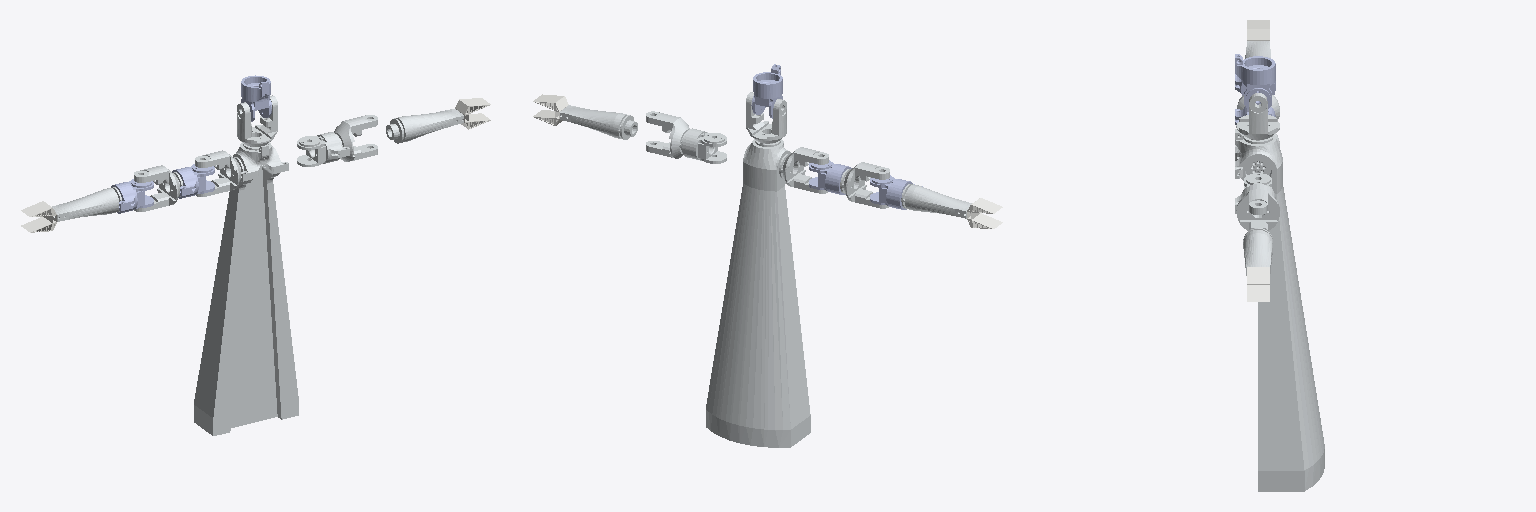
The robot description file, URDF, robot "monkey_co mplete":
<?xml version="1.0" encoding="utf-8"?>
<!-- This URDF was automatically created by SolidWorks to URDF Exporter! Originally created by [author] ([email redacted]) 
     Commit Version: 1.6.0-4-g7f85cfe  Build Version: 1.6.7995.38578
     For more information, please see http://wiki.ros.org/sw_urdf_exporter -->
<robot
  name="monkey_co mplete">
  <link
    name="base_link">
    <inertial>
      <origin
        xyz="6.98705116462124E-09 0.00128521070466461 0.0520295656440773"
        rpy="0 0 0" />
      <mass
        value="0.0883290373372722" />
      <inertia
        ixx="0.000141144717037961"
        ixy="1.04477581076833E-10"
        ixz="-4.83096664544425E-10"
        iyy="0.000149270696736634"
        iyz="1.02449244706016E-05"
        izz="1.58173066485521E-05" />
    </inertial>
    <visual>
      <origin
        xyz="0 0 0"
        rpy="0 0 0" />
      <geometry>
        <mesh
          filename="package://monkey_complete/meshes/base_link.STL" />
      </geometry>
      <material
        name="">
        <color
          rgba="0.898039215686275 0.917647058823529 0.929411764705882 1" />
      </material>
    </visual>
    <collision>
      <origin
        xyz="0 0 0"
        rpy="0 0 0" />
      <geometry>
        <mesh
          filename="package://monkey_complete/meshes/base_link_Collision.STL" />
      </geometry>
    </collision>
  </link>
  <link
    name="Neck_Hor_Rot_Link">
    <inertial>
      <origin
        xyz="0.000669560657733764 7.22824268208945E-06 0.0123704106831974"
        rpy="0 0 0" />
      <mass
        value="0.00224204689024492" />
      <inertia
        ixx="1.20382101087139E-07"
        ixy="9.93082482397873E-12"
        ixz="-6.05039637813109E-09"
        iyy="1.91214842358204E-07"
        iyz="1.18376847836872E-10"
        izz="1.22105776114293E-07" />
    </inertial>
    <visual>
      <origin
        xyz="0 0 0"
        rpy="0 0 0" />
      <geometry>
        <mesh
          filename="package://monkey_complete/meshes/Neck_Hor_Rot_Link.STL" />
      </geometry>
      <material
        name="">
        <color
          rgba="0.898039215686275 0.917647058823529 0.929411764705882 1" />
      </material>
    </visual>
    <collision>
      <origin
        xyz="0 0 0"
        rpy="0 0 0" />
      <geometry>
        <mesh
          filename="package://monkey_complete/meshes/Neck_Hor_Rot_Link_Collision.STL" />
      </geometry>
    </collision>
  </link>
  <joint
    name="Neck_Hor_Rot_Joint"
    type="revolute">
    <origin
      xyz="0 -0.01 0.1538"
      rpy="0 0 0" />
    <parent
      link="base_link" />
    <child
      link="Neck_Hor_Rot_Link" />
    <axis
      xyz="0 0 -1" />
    <limit
      lower="-1.507"
      upper="1.507"
      effort="1"
      velocity="1" />
  </joint>
  <link
    name="Neck_Fro_Rot_Link">
    <inertial>
      <origin
        xyz="0.000242400751746984 -0.0003800741587503 0.00633594131736323"
        rpy="0 0 0" />
      <mass
        value="0.00176240827004742" />
      <inertia
        ixx="7.60273983420826E-08"
        ixy="-1.62368191193238E-10"
        ixz="3.18161828212279E-09"
        iyy="7.41393158959736E-08"
        iyz="4.96038484363031E-09"
        izz="6.14795776087857E-08" />
    </inertial>
    <visual>
      <origin
        xyz="0 0 0"
        rpy="0 0 0" />
      <geometry>
        <mesh
          filename="package://monkey_complete/meshes/Neck_Fro_Rot_Link.STL" />
      </geometry>
      <material
        name="">
        <color
          rgba="0.792156862745098 0.819607843137255 0.933333333333333 1" />
      </material>
    </visual>
    <collision>
      <origin
        xyz="0 0 0"
        rpy="0 0 0" />
      <geometry>
        <mesh
          filename="package://monkey_complete/meshes/Neck_Fro_Rot_Link_Collision.STL" />
      </geometry>
    </collision>
  </link>
  <joint
    name="Neck_Fro_Rot_Joint"
    type="revolute">
    <origin
      xyz="0 0 0.0245"
      rpy="0 0 0" />
    <parent
      link="Neck_Hor_Rot_Link" />
    <child
      link="Neck_Fro_Rot_Link" />
    <axis
      xyz="1 0 0" />
    <limit
      lower="-1.507"
      upper="1.507"
      effort="1"
      velocity="1" />
  </joint>
  <link
    name="R_Shoulder_Link">
    <inertial>
      <origin
        xyz="0.0123586237459188 5.88234091172292E-06 0.000668461177534746"
        rpy="0 0 0" />
      <mass
        value="0.00224572738283052" />
      <inertia
        ixx="1.22180940017793E-07"
        ixy="9.83615637905777E-11"
        ixz="-6.0681033743057E-09"
        iyy="1.91407988045122E-07"
        iyz="9.78041242293808E-12"
        izz="1.20646424838584E-07" />
    </inertial>
    <visual>
      <origin
        xyz="0 0 0"
        rpy="0 0 0" />
      <geometry>
        <mesh
          filename="package://monkey_complete/meshes/R_Shoulder_Link.STL" />
      </geometry>
      <material
        name="">
        <color
          rgba="0.898039215686275 0.917647058823529 0.929411764705882 1" />
      </material>
    </visual>
    <collision>
      <origin
        xyz="0 0 0"
        rpy="0 0 0" />
      <geometry>
        <mesh
          filename="package://monkey_complete/meshes/R_Shoulder_Link_Collision.STL" />
      </geometry>
    </collision>
  </link>
  <joint
    name="R_Shoulder_Fro_Rot_Joint"
    type="revolute">
    <origin
      xyz="0.0068 -0.01 0.146"
      rpy="0 0 0" />
    <parent
      link="base_link" />
    <child
      link="R_Shoulder_Link" />
    <axis
      xyz="1 0 0" />
    <limit
      lower="-1.507"
      upper="1.507"
      effort="1"
      velocity="1" />
  </joint>
  <link
    name="R_Upper_Biceps_Link">
    <inertial>
      <origin
        xyz="0.00633593253994472 -0.000380029862493877 0.000240976983574254"
        rpy="0 0 0" />
      <mass
        value="0.00176193451259821" />
      <inertia
        ixx="6.1462803572227E-08"
        ixy="4.95966166731548E-09"
        ixz="3.18113676416E-09"
        iyy="7.41244544868285E-08"
        iyz="-1.61160868537095E-10"
        izz="7.60250325403049E-08" />
    </inertial>
    <visual>
      <origin
        xyz="0 0 0"
        rpy="0 0 0" />
      <geometry>
        <mesh
          filename="package://monkey_complete/meshes/R_Upper_Biceps_Link.STL" />
      </geometry>
      <material
        name="">
        <color
          rgba="0.898039215686275 0.917647058823529 0.929411764705882 1" />
      </material>
    </visual>
    <collision>
      <origin
        xyz="0 0 0"
        rpy="0 0 0" />
      <geometry>
        <mesh
          filename="package://monkey_complete/meshes/R_Upper_Biceps_Link_Collision.STL" />
      </geometry>
    </collision>
  </link>
  <joint
    name="R_Shoulder_Lat_Joint"
    type="revolute">
    <origin
      xyz="0.0245 0 0"
      rpy="0 0 0" />
    <parent
      link="R_Shoulder_Link" />
    <child
      link="R_Upper_Biceps_Link" />
    <axis
      xyz="0 0 1" />
    <limit
      lower="-1.507"
      upper="1.507"
      effort="1"
      velocity="1" />
  </joint>
  <link
    name="R_Lower_Biceps_Link">
    <inertial>
      <origin
        xyz="0.0123586237459188 5.88234091172118E-06 0.000668461177534718"
        rpy="0 0 0" />
      <mass
        value="0.00224572738283052" />
      <inertia
        ixx="1.22180940017793E-07"
        ixy="9.83615637905792E-11"
        ixz="-6.06810337430573E-09"
        iyy="1.91407988045122E-07"
        iyz="9.78041242294498E-12"
        izz="1.20646424838584E-07" />
    </inertial>
    <visual>
      <origin
        xyz="0 0 0"
        rpy="0 0 0" />
      <geometry>
        <mesh
          filename="package://monkey_complete/meshes/R_Lower_Biceps_Link.STL" />
      </geometry>
      <material
        name="">
        <color
          rgba="0.898039215686275 0.917647058823529 0.929411764705882 1" />
      </material>
    </visual>
    <collision>
      <origin
        xyz="0 0 0"
        rpy="0 0 0" />
      <geometry>
        <mesh
          filename="package://monkey_complete/meshes/R_Lower_Biceps_Link_Collision.STL" />
      </geometry>
    </collision>
  </link>
  <joint
    name="R_Shoulder_Hor_Joint"
    type="revolute">
    <origin
      xyz="0.0113 0 0"
      rpy="0 0 0" />
    <parent
      link="R_Upper_Biceps_Link" />
    <child
      link="R_Lower_Biceps_Link" />
    <axis
      xyz="-1 0 0" />
    <limit
      lower="-1.507"
      upper="1.507"
      effort="1"
      velocity="1" />
  </joint>
  <link
    name="R_Upper_Forearm_Link">
    <inertial>
      <origin
        xyz="0.00633593253994474 -0.000380029862493868 0.000240976983574254"
        rpy="0 0 0" />
      <mass
        value="0.00176193451259821" />
      <inertia
        ixx="6.14628035722269E-08"
        ixy="4.95966166731538E-09"
        ixz="3.18113676415999E-09"
        iyy="7.41244544868284E-08"
        iyz="-1.61160868537073E-10"
        izz="7.60250325403048E-08" />
    </inertial>
    <visual>
      <origin
        xyz="0 0 0"
        rpy="0 0 0" />
      <geometry>
        <mesh
          filename="package://monkey_complete/meshes/R_Upper_Forearm_Link.STL" />
      </geometry>
      <material
        name="">
        <color
          rgba="0.898039215686275 0.917647058823529 0.929411764705882 1" />
      </material>
    </visual>
    <collision>
      <origin
        xyz="0 0 0"
        rpy="0 0 0" />
      <geometry>
        <mesh
          filename="package://monkey_complete/meshes/R_Upper_Forearm_Link_Collision.STL" />
      </geometry>
    </collision>
  </link>
  <joint
    name="R_Ellbow_Joint"
    type="revolute">
    <origin
      xyz="0.0245 0 0"
      rpy="0 0 0" />
    <parent
      link="R_Lower_Biceps_Link" />
    <child
      link="R_Upper_Forearm_Link" />
    <axis
      xyz="0 0 1" />
    <limit
      lower="-1.507"
      upper="1.507"
      effort="1"
      velocity="1" />
  </joint>
  <link
    name="R_Lower_Forearm_Link">
    <inertial>
      <origin
        xyz="0.0181791115365802 3.86331336988538E-06 3.0734476075267E-10"
        rpy="0 0 0" />
      <mass
        value="0.00284451273420116" />
      <inertia
        ixx="5.2909125053046E-08"
        ixy="1.44891782874779E-10"
        ixz="1.11130672919831E-14"
        iyy="3.41437201417628E-07"
        iyz="-3.22420388844467E-12"
        izz="3.50072065949411E-07" />
    </inertial>
    <visual>
      <origin
        xyz="0 0 0"
        rpy="0 0 0" />
      <geometry>
        <mesh
          filename="package://monkey_complete/meshes/R_Lower_Forearm_Link.STL" />
      </geometry>
      <material
        name="">
        <color
          rgba="0.898039215686275 0.917647058823529 0.929411764705882 1" />
      </material>
    </visual>
    <collision>
      <origin
        xyz="0 0 0"
        rpy="0 0 0" />
      <geometry>
        <mesh
          filename="package://monkey_complete/meshes/R_Lower_Forearm_Link_Collision.STL" />
      </geometry>
    </collision>
  </link>
  <joint
    name="R_Wrist_Joint"
    type="revolute">
    <origin
      xyz="0.0113 0 0"
      rpy="0 0 0" />
    <parent
      link="R_Upper_Forearm_Link" />
    <child
      link="R_Lower_Forearm_Link" />
    <axis
      xyz="-1 0 0" />
    <limit
      lower="-1.507"
      upper="1.507"
      effort="1"
      velocity="1" />
  </joint>
  <link
    name="R_Hand_Link">
    <inertial>
      <origin
        xyz="0.00517379971053598 -1.07552855510562E-16 5.16598492172893E-06"
        rpy="0 0 0" />
      <mass
        value="0.000391365166607116" />
      <inertia
        ixx="8.7659672148119E-09"
        ixy="-2.93517383296693E-23"
        ixz="-5.78530674195544E-14"
        iyy="1.02180301675885E-08"
        iyz="1.14288950260982E-22"
        izz="7.65735342992188E-09" />
    </inertial>
    <visual>
      <origin
        xyz="0 0 0"
        rpy="0 0 0" />
      <geometry>
        <mesh
          filename="package://monkey_complete/meshes/R_Hand_Link.STL" />
      </geometry>
      <material
        name="">
        <color
          rgba="0.964705882352941 0.964705882352941 0.952941176470588 1" />
      </material>
    </visual>
    <collision>
      <origin
        xyz="0 0 0"
        rpy="0 0 0" />
      <geometry>
        <mesh
          filename="package://monkey_complete/meshes/R_Hand_Link_Collision.STL" />
      </geometry>
    </collision>
  </link>
  <joint
    name="R_Hand_Joint"
    type="revolute">
    <origin
      xyz="0.041 0 0"
      rpy="0 0 0" />
    <parent
      link="R_Lower_Forearm_Link" />
    <child
      link="R_Hand_Link" />
    <axis
      xyz="-1 0 0" />
    <limit
      lower="0"
      upper="0"
      effort="0"
      velocity="0" />
  </joint>
  <link
    name="L_Shoulder_Link">
    <inertial>
      <origin
        xyz="-0.0123704106831975 7.22824268199231E-06 0.000669560657733603"
        rpy="0 0 0" />
      <mass
        value="0.00224204689024492" />
      <inertia
        ixx="1.22105776114293E-07"
        ixy="-1.18376847837409E-10"
        ixz="6.05039637813105E-09"
        iyy="1.91214842358204E-07"
        iyz="9.93082482451719E-12"
        izz="1.20382101087139E-07" />
    </inertial>
    <visual>
      <origin
        xyz="0 0 0"
        rpy="0 0 0" />
      <geometry>
        <mesh
          filename="package://monkey_complete/meshes/L_Shoulder_Link.STL" />
      </geometry>
      <material
        name="">
        <color
          rgba="0.898039215686275 0.917647058823529 0.929411764705882 1" />
      </material>
    </visual>
    <collision>
      <origin
        xyz="0 0 0"
        rpy="0 0 0" />
      <geometry>
        <mesh
          filename="package://monkey_complete/meshes/L_Shoulder_Link_Collision.STL" />
      </geometry>
    </collision>
  </link>
  <joint
    name="L_Shoulder_Fro_Joint"
    type="revolute">
    <origin
      xyz="-0.0068 -0.01 0.146"
      rpy="0 0 0" />
    <parent
      link="base_link" />
    <child
      link="L_Shoulder_Link" />
    <axis
      xyz="-1 0 0" />
    <limit
      lower="-1.507"
      upper="1.507"
      effort="1"
      velocity="1" />
  </joint>
  <link
    name="L_Upper_Biceps_Link">
    <inertial>
      <origin
        xyz="-0.00633594131736319 -0.000380074158750071 0.000242400751746974"
        rpy="0 0 0" />
      <mass
        value="0.00176240827004743" />
      <inertia
        ixx="6.14795776087858E-08"
        ixy="-4.96038484363035E-09"
        ixz="-3.18161828212294E-09"
        iyy="7.41393158959736E-08"
        iyz="-1.62368191193327E-10"
        izz="7.60273983420826E-08" />
    </inertial>
    <visual>
      <origin
        xyz="0 0 0"
        rpy="0 0 0" />
      <geometry>
        <mesh
          filename="package://monkey_complete/meshes/L_Upper_Biceps_Link.STL" />
      </geometry>
      <material
        name="">
        <color
          rgba="0.792156862745098 0.819607843137255 0.933333333333333 1" />
      </material>
    </visual>
    <collision>
      <origin
        xyz="0 0 0"
        rpy="0 0 0" />
      <geometry>
        <mesh
          filename="package://monkey_complete/meshes/L_Upper_Biceps_Link_Collision.STL" />
      </geometry>
    </collision>
  </link>
  <joint
    name="L_Shoulder_Lat_Joint"
    type="revolute">
    <origin
      xyz="-0.0245 0 0"
      rpy="0 0 0" />
    <parent
      link="L_Shoulder_Link" />
    <child
      link="L_Upper_Biceps_Link" />
    <axis
      xyz="0 0 1" />
    <limit
      lower="-1.507"
      upper="1.507"
      effort="1"
      velocity="1" />
  </joint>
  <link
    name="L_Lower_Biceps_Link">
    <inertial>
      <origin
        xyz="-0.0123704106831975 7.22824268199578E-06 0.000669560657733603"
        rpy="0 0 0" />
      <mass
        value="0.00224204689024492" />
      <inertia
        ixx="1.22105776114293E-07"
        ixy="-1.1837684783739E-10"
        ixz="6.05039637813108E-09"
        iyy="1.91214842358204E-07"
        iyz="9.9308248244927E-12"
        izz="1.20382101087139E-07" />
    </inertial>
    <visual>
      <origin
        xyz="0 0 0"
        rpy="0 0 0" />
      <geometry>
        <mesh
          filename="package://monkey_complete/meshes/L_Lower_Biceps_Link.STL" />
      </geometry>
      <material
        name="">
        <color
          rgba="0.898039215686275 0.917647058823529 0.929411764705882 1" />
      </material>
    </visual>
    <collision>
      <origin
        xyz="0 0 0"
        rpy="0 0 0" />
      <geometry>
        <mesh
          filename="package://monkey_complete/meshes/L_Lower_Biceps_Link_Collision.STL" />
      </geometry>
    </collision>
  </link>
  <joint
    name="L_Shoulder_Hor_Joint"
    type="revolute">
    <origin
      xyz="-0.0113 0 0"
      rpy="0 0 0" />
    <parent
      link="L_Upper_Biceps_Link" />
    <child
      link="L_Lower_Biceps_Link" />
    <axis
      xyz="1 0 0" />
    <limit
      lower="-1.507"
      upper="1.507"
      effort="1"
      velocity="1" />
  </joint>
  <link
    name="L_Upper_Forearm_Link">
    <inertial>
      <origin
        xyz="-0.00633594131736322 -0.000380074158750361 0.000242400751746974"
        rpy="0 0 0" />
      <mass
        value="0.00176240827004743" />
      <inertia
        ixx="6.1479577608786E-08"
        ixy="-4.96038484363041E-09"
        ixz="-3.18161828212292E-09"
        iyy="7.41393158959737E-08"
        iyz="-1.62368191193308E-10"
        izz="7.60273983420828E-08" />
    </inertial>
    <visual>
      <origin
        xyz="0 0 0"
        rpy="0 0 0" />
      <geometry>
        <mesh
          filename="package://monkey_complete/meshes/L_Upper_Forearm_Link.STL" />
      </geometry>
      <material
        name="">
        <color
          rgba="0.792156862745098 0.819607843137255 0.933333333333333 1" />
      </material>
    </visual>
    <collision>
      <origin
        xyz="0 0 0"
        rpy="0 0 0" />
      <geometry>
        <mesh
          filename="package://monkey_complete/meshes/L_Upper_Forearm_Link_Collision.STL" />
      </geometry>
    </collision>
  </link>
  <joint
    name="L_Ellbow_Joint"
    type="revolute">
    <origin
      xyz="-0.0245 0 0"
      rpy="0 0 0" />
    <parent
      link="L_Lower_Biceps_Link" />
    <child
      link="L_Upper_Forearm_Link" />
    <axis
      xyz="0 0 1" />
    <limit
      lower="-1.507"
      upper="1.507"
      effort="1"
      velocity="1" />
  </joint>
  <link
    name="L_Lower_Forearm_Link">
    <inertial>
      <origin
        xyz="-0.0181791115365802 3.86331336975181E-06 -3.0734476075267E-10"
        rpy="0 0 0" />
      <mass
        value="0.00284451273420116" />
      <inertia
        ixx="5.29091250530459E-08"
        ixy="-1.44891782876658E-10"
        ixz="1.11130673562182E-14"
        iyy="3.41437201417627E-07"
        iyz="3.22420388838765E-12"
        izz="3.5007206594941E-07" />
    </inertial>
    <visual>
      <origin
        xyz="0 0 0"
        rpy="0 0 0" />
      <geometry>
        <mesh
          filename="package://monkey_complete/meshes/L_Lower_Forearm_Link.STL" />
      </geometry>
      <material
        name="">
        <color
          rgba="0.898039215686275 0.917647058823529 0.929411764705882 1" />
      </material>
    </visual>
    <collision>
      <origin
        xyz="0 0 0"
        rpy="0 0 0" />
      <geometry>
        <mesh
          filename="package://monkey_complete/meshes/L_Lower_Forearm_Link_Collision.STL" />
      </geometry>
    </collision>
  </link>
  <joint
    name="L_Wrist_Joint"
    type="revolute">
    <origin
      xyz="-0.0113 0 0"
      rpy="0 0 0" />
    <parent
      link="L_Upper_Forearm_Link" />
    <child
      link="L_Lower_Forearm_Link" />
    <axis
      xyz="1 0 0" />
    <limit
      lower="-1.507"
      upper="1.507"
      effort="1"
      velocity="1" />
  </joint>
  <link
    name="L_Hand_Link">
    <inertial>
      <origin
        xyz="-0.00517379971053604 1.42247325030098E-16 -5.16598492170117E-06"
        rpy="0 0 0" />
      <mass
        value="0.000391365166607116" />
      <inertia
        ixx="8.7659672148119E-09"
        ixy="2.48233428681096E-23"
        ixz="-5.78530674011555E-14"
        iyy="1.02180301675885E-08"
        iyz="-1.15427142478364E-22"
        izz="7.65735342992189E-09" />
    </inertial>
    <visual>
      <origin
        xyz="0 0 0"
        rpy="0 0 0" />
      <geometry>
        <mesh
          filename="package://monkey_complete/meshes/L_Hand_Link.STL" />
      </geometry>
      <material
        name="">
        <color
          rgba="0.964705882352941 0.964705882352941 0.952941176470588 1" />
      </material>
    </visual>
    <collision>
      <origin
        xyz="0 0 0"
        rpy="0 0 0" />
      <geometry>
        <mesh
          filename="package://monkey_complete/meshes/L_Hand_Link_Collision.STL" />
      </geometry>
    </collision>
  </link>
  <joint
    name="L_Hand_Joint"
    type="revolute">
    <origin
      xyz="-0.041 0 0"
      rpy="0 0 0" />
    <parent
      link="L_Lower_Forearm_Link" />
    <child
      link="L_Hand_Link" />
    <axis
      xyz="1 0 0" />
    <limit
      lower="0"
      upper="0"
      effort="0"
      velocity="0" />
  </joint>
</robot>

--- What the picture shows (computed from the rendered views, not written in the file) ---
Views: 3 orthographic renders of the robot side by side, from view 1: azimuth 30°, elevation 25°; view 2: azimuth 150°, elevation 25°; view 3: azimuth 270°, elevation 25°.
Model monkey_co mplete with 15 links and 14 joints (14 revolute), rooted at base_link, posed every joint at zero.
Links seen in each view (by area): view 1: base_link, R_Lower_Forearm_Link, L_Lower_Forearm_Link, Neck_Hor_Rot_Link, R_Upper_Biceps_Link, L_Lower_Biceps_Link, L_Shoulder_Link, R_Lower_Biceps_Link, Neck_Fro_Rot_Link, L_Upper_Biceps_Link, L_Upper_Forearm_Link, L_Hand_Link (+1 smaller); view 2: base_link, R_Lower_Forearm_Link, L_Lower_Forearm_Link, Neck_Hor_Rot_Link, L_Shoulder_Link, L_Lower_Biceps_Link, R_Lower_Biceps_Link, R_Upper_Biceps_Link, Neck_Fro_Rot_Link, L_Upper_Forearm_Link, L_Upper_Biceps_Link, L_Hand_Link (+1 smaller); view 3: base_link, Neck_Fro_Rot_Link, R_Lower_Biceps_Link, Neck_Hor_Rot_Link, R_Lower_Forearm_Link, R_Hand_Link, R_Upper_Biceps_Link.
Boxes of the visible links, bbox=[...] form: base_link: bbox=[194, 142, 298, 435]; R_Lower_Forearm_Link: bbox=[386, 109, 463, 143]; L_Lower_Forearm_Link: bbox=[52, 187, 121, 221]; Neck_Hor_Rot_Link: bbox=[237, 95, 277, 150]; R_Upper_Biceps_Link: bbox=[297, 132, 349, 166]; L_Lower_Biceps_Link: bbox=[134, 165, 182, 211]; L_Shoulder_Link: bbox=[195, 150, 243, 196]; R_Lower_Biceps_Link: bbox=[334, 115, 377, 161]; Neck_Fro_Rot_Link: bbox=[241, 75, 271, 121]; L_Upper_Biceps_Link: bbox=[172, 164, 214, 198]; L_Upper_Forearm_Link: bbox=[111, 179, 153, 213]; L_Hand_Link: bbox=[21, 201, 56, 232]; base_link: bbox=[706, 139, 810, 447]; R_Lower_Forearm_Link: bbox=[560, 105, 637, 139]; L_Lower_Forearm_Link: bbox=[901, 184, 971, 218]; Neck_Hor_Rot_Link: bbox=[746, 92, 786, 146]; L_Shoulder_Link: bbox=[779, 147, 828, 193]; L_Lower_Biceps_Link: bbox=[840, 162, 889, 208]; R_Lower_Biceps_Link: bbox=[646, 111, 689, 158]; R_Upper_Biceps_Link: bbox=[682, 128, 726, 163]; Neck_Fro_Rot_Link: bbox=[751, 64, 782, 118]; L_Upper_Forearm_Link: bbox=[870, 175, 922, 209]; L_Upper_Biceps_Link: bbox=[809, 160, 851, 194]; L_Hand_Link: bbox=[967, 198, 1002, 228]; base_link: bbox=[1235, 129, 1324, 491]; Neck_Fro_Rot_Link: bbox=[1235, 54, 1275, 108]; R_Lower_Biceps_Link: bbox=[1236, 189, 1279, 230]; Neck_Hor_Rot_Link: bbox=[1236, 93, 1279, 143]; R_Lower_Forearm_Link: bbox=[1243, 228, 1272, 275]; R_Hand_Link: bbox=[1247, 267, 1269, 301]; R_Upper_Biceps_Link: bbox=[1235, 173, 1275, 213].
Bounding box of the posed robot: 0.2703 × 0.0388 × 0.1963 m (x, y, z).
Meshes: 15 distinct files referenced, 13 mesh visuals loaded (13 binary STL); not drawn: 2 (reference not matched to a file when rendering).
